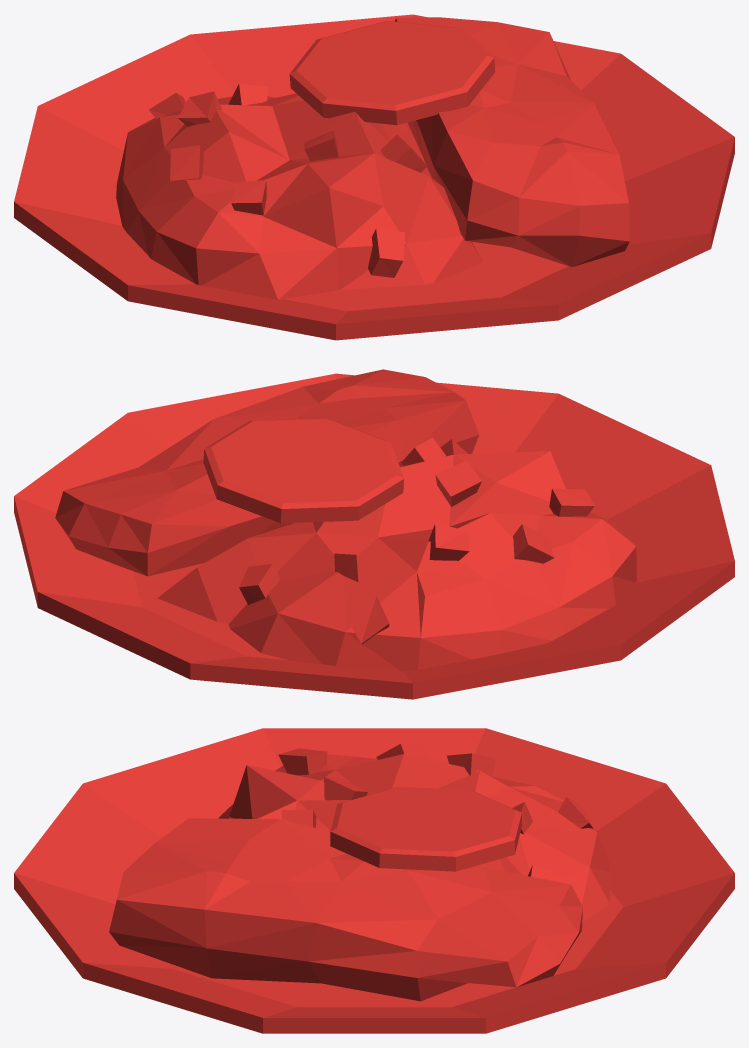
The model's file is SM_Plate_Dinner_Czech_A.fbx.
The picture shows the model from 3 angles, top to bottom: view 1: azimuth 30°, elevation 25°; view 2: azimuth 150°, elevation 25°; view 3: azimuth 270°, elevation 25°; orthographic projection. The views are drawn at different scales.
Parts seen in each view (by area): view 1: plate-dinner-czech-a; view 2: plate-dinner-czech-a; view 3: plate-dinner-czech-a.
Part boxes in pixels (x1=…): plate-dinner-czech-a: x1=14, y1=14, x2=734, y2=340; plate-dinner-czech-a: x1=14, y1=369, x2=734, y2=699; plate-dinner-czech-a: x1=14, y1=728, x2=734, y2=1033.
Size of the model in its own units: 0.2995 by 0.0628 by 0.315.
